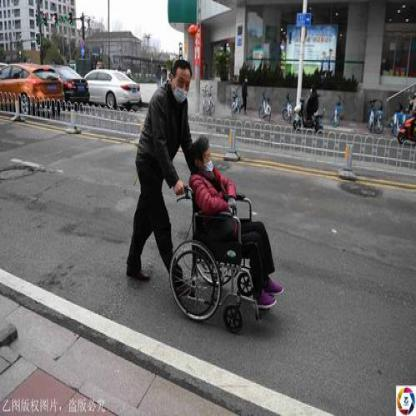wheelchair: (178, 129, 277, 329)
